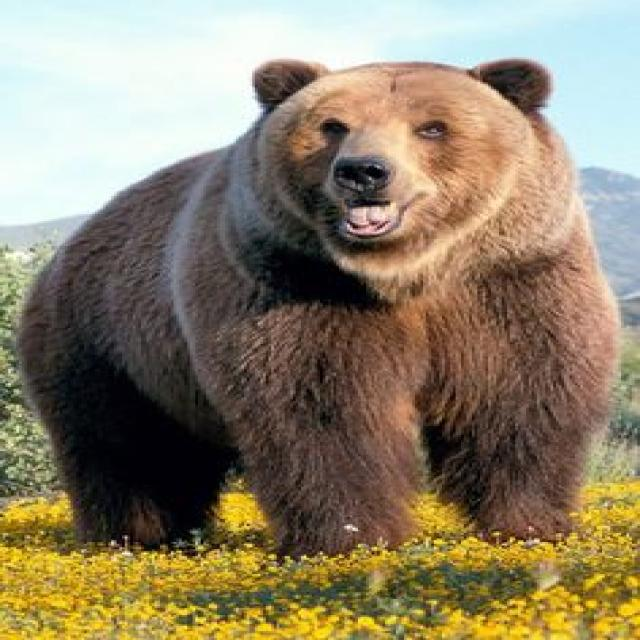Carnivorous: (16, 59, 621, 560)
